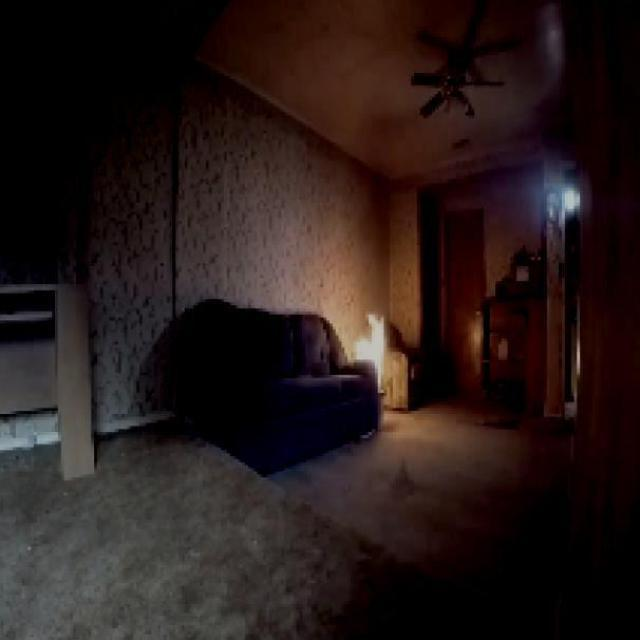smoke: (349, 308, 392, 363)
